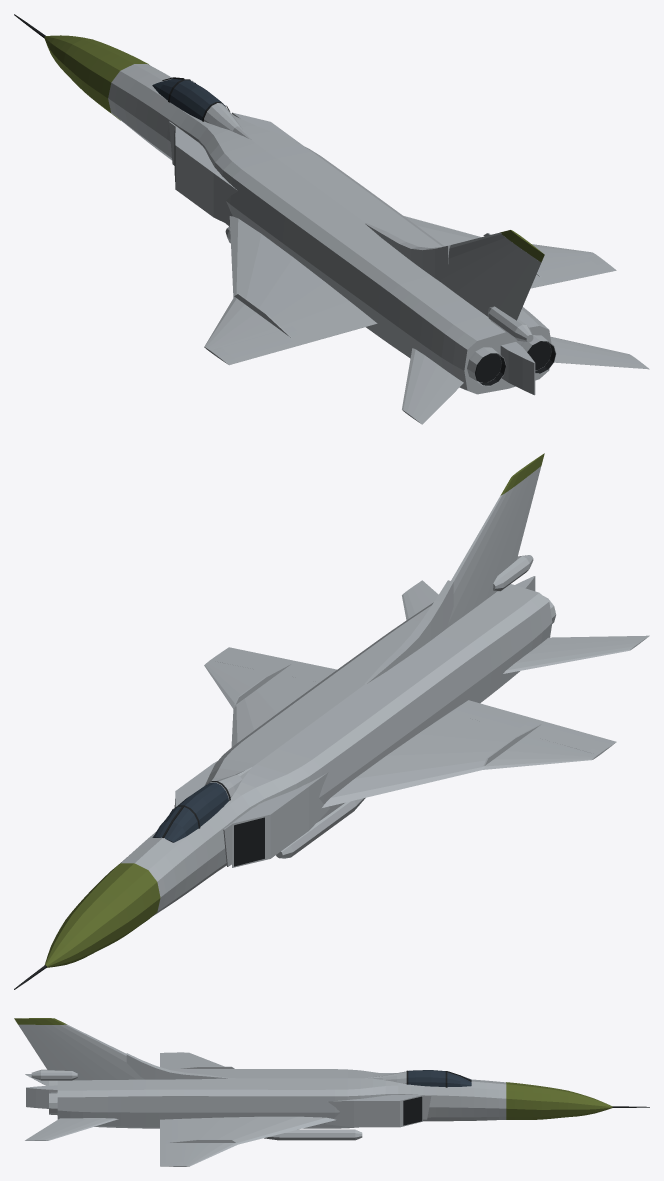
3 views of the same model, one above another, from view 1: azimuth 30°, elevation 25°; view 2: azimuth 150°, elevation 25°; view 3: azimuth 270°, elevation 25° (orthographic). The views are drawn at different scales.
Parts seen in each view (by area): view 1: Fuselage, Wing L, Vertical Fin, Intake Cheeks, Radome, Elevator L, Rudder, Wing R, Elevator R, Dorsal Fillet, Aileron L, Cockpit Glass (+6 smaller); view 2: Fuselage, Wing L, Radome, Wing R, Intake Cheeks, Vertical Fin, Elevator L, Cockpit Glass, Rudder, Dorsal Fillet, Intake L, Aileron L (+4 smaller); view 3: Fuselage, Wing R, Vertical Fin, Radome, Intake Cheeks, Rudder, Elevator R, Gun Pods, Dorsal Fillet, Cockpit Glass, Pen Nib Fairing, Wing L (+7 smaller).
Part boxes in pixels (x1,y1,x2,y2): Fuselage: (108, 64, 551, 394); Wing L: (204, 216, 377, 365); Vertical Fin: (441, 230, 544, 304); Intake Cheeks: (175, 112, 302, 225); Radome: (44, 35, 148, 120); Elevator L: (402, 348, 463, 424); Rudder: (472, 252, 541, 320); Wing R: (404, 216, 616, 287); Elevator R: (550, 336, 649, 369); Dorsal Fillet: (365, 223, 450, 281); Aileron L: (220, 327, 308, 362); Cockpit Glass: (152, 78, 225, 120); Fuselage: (120, 584, 552, 916); Wing L: (322, 700, 616, 807); Radome: (45, 863, 160, 967); Wing R: (204, 647, 319, 746); Intake Cheeks: (175, 761, 329, 867); Vertical Fin: (447, 453, 544, 627); Elevator L: (503, 635, 649, 673); Cockpit Glass: (152, 782, 228, 842); Rudder: (477, 466, 541, 606); Dorsal Fillet: (364, 580, 453, 684); Intake L: (234, 817, 264, 866); Aileron L: (518, 719, 605, 751); Fuselage: (57, 1069, 506, 1128); Wing R: (160, 1116, 335, 1166); Vertical Fin: (14, 1018, 144, 1079); Radome: (506, 1082, 612, 1119); Intake Cheeks: (325, 1073, 422, 1127); Rudder: (18, 1024, 97, 1080); Elevator R: (25, 1118, 118, 1140); Gun Pods: (264, 1129, 362, 1140); Dorsal Fillet: (126, 1053, 228, 1079); Cockpit Glass: (408, 1070, 471, 1087); Pen Nib Fairing: (26, 1085, 57, 1108); Wing L: (160, 1052, 234, 1068).
Size of the model in its own units: 9.34 by 4.4 by 22.12.
